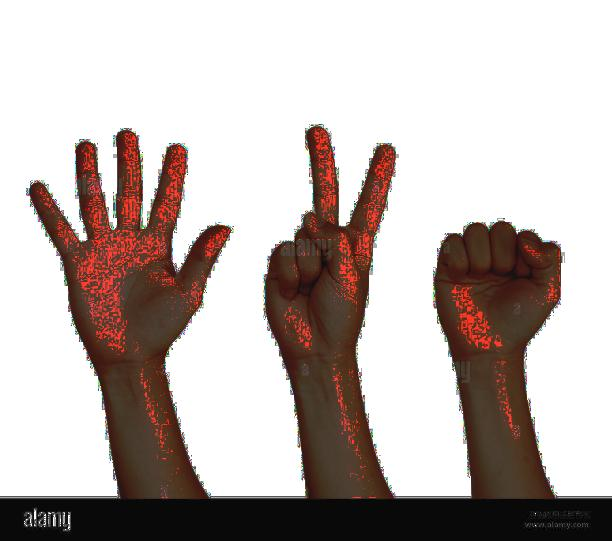Paper: (26, 126, 232, 369)
Rock: (430, 211, 567, 380)
Scissors: (258, 116, 404, 385)
